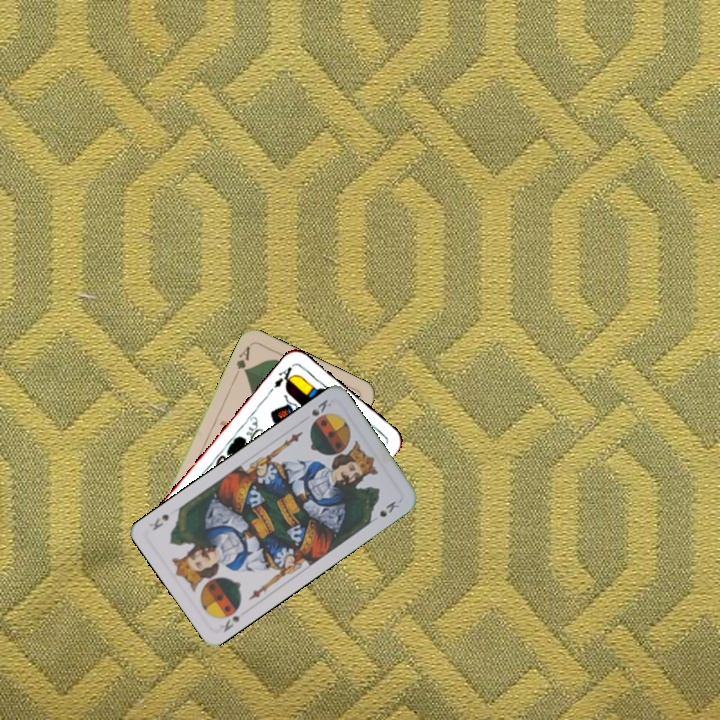EA: (270, 361, 298, 390)
GA: (231, 342, 253, 380)
SK: (307, 395, 334, 419), (216, 611, 243, 635)
